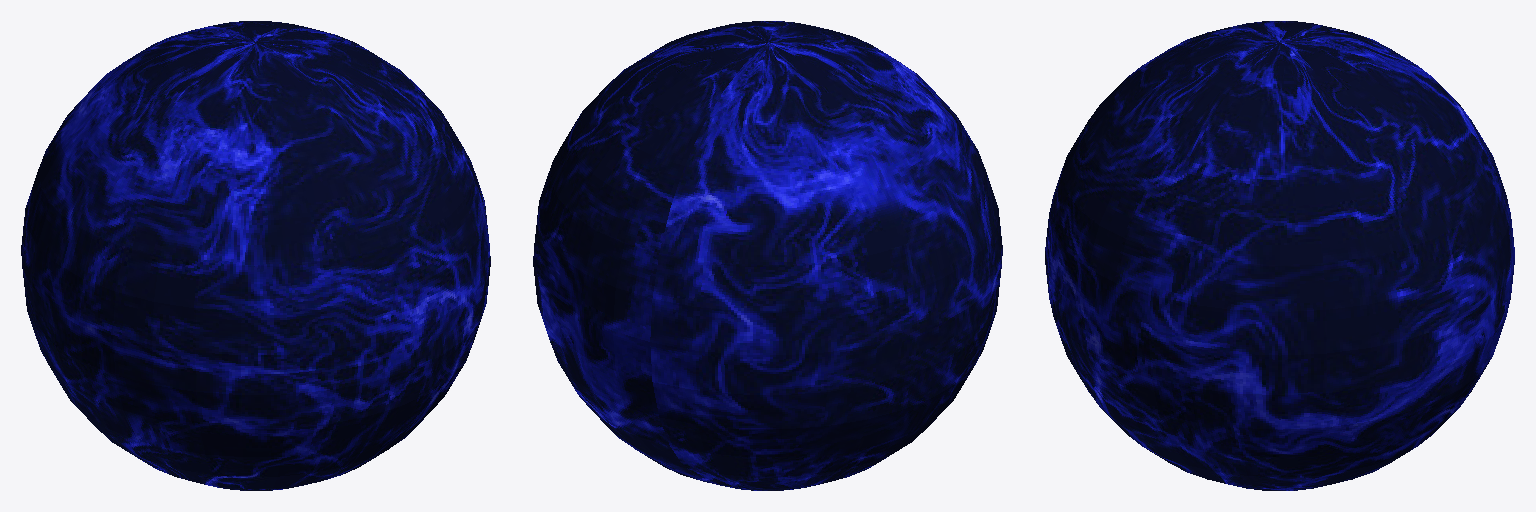
3 renders of one model, left to right at view 1: azimuth 30°, elevation 25°; view 2: azimuth 150°, elevation 25°; view 3: azimuth 270°, elevation 25°, orthographic.
Visible parts, largest first — view 1: Sphere002; view 2: Sphere002; view 3: Sphere002.
Boxes of the visible parts, <box> form: Sphere002: <box>21,21,490,490</box>; Sphere002: <box>533,21,1002,490</box>; Sphere002: <box>1045,21,1514,490</box>.
Size of the model in its own units: 8.8 by 8.8 by 8.8.
1 materials, 1 textured.